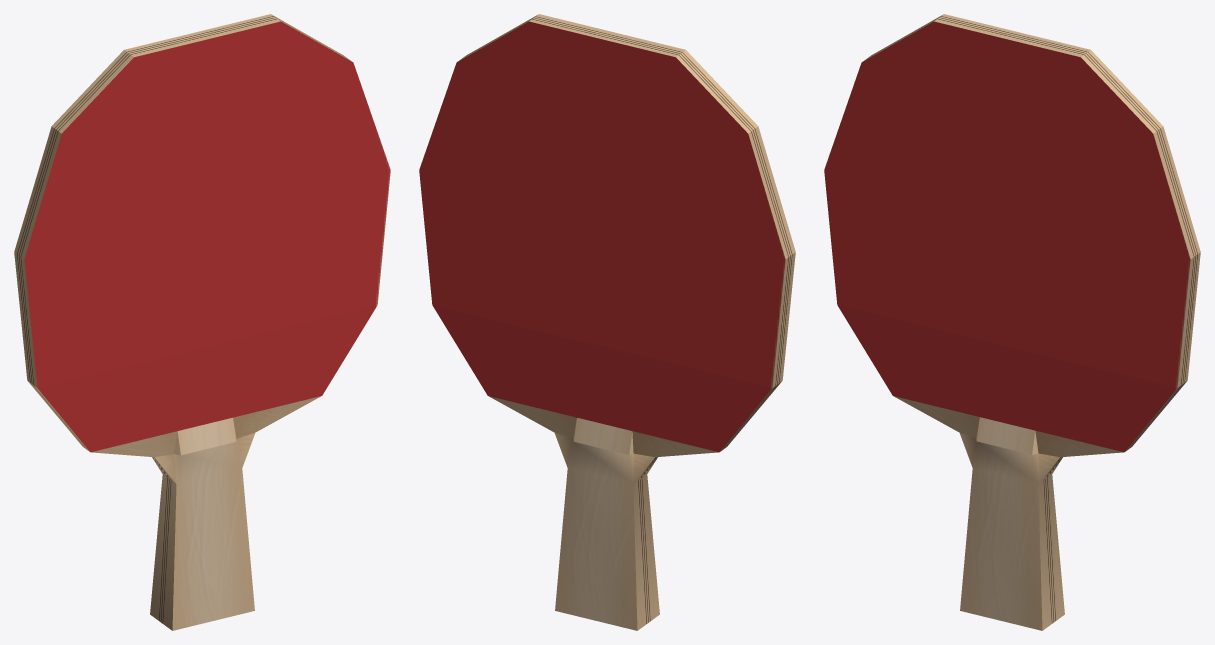
The model's file is pong_stick.FBX.
3 views of the same model, side by side, from view 1: azimuth 30°, elevation 25°; view 2: azimuth 150°, elevation 25°; view 3: azimuth 330°, elevation 25° (orthographic).
Parts seen in each view (by area): view 1: Box002; view 2: Box002; view 3: Box002.
Part boxes in pixels (x1,y1,x2,y2): Box002: (14, 14, 390, 630); Box002: (419, 14, 795, 630); Box002: (824, 14, 1200, 630).
Bounding box in the file's own units: 46.04 × 69.28 × 4.9.
